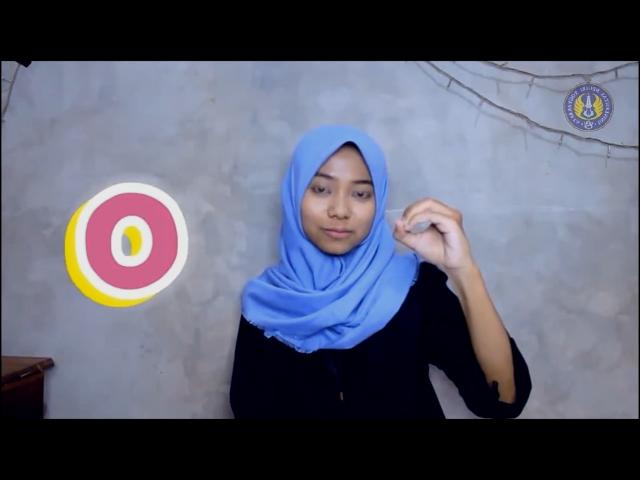O: (391, 194, 465, 270)
